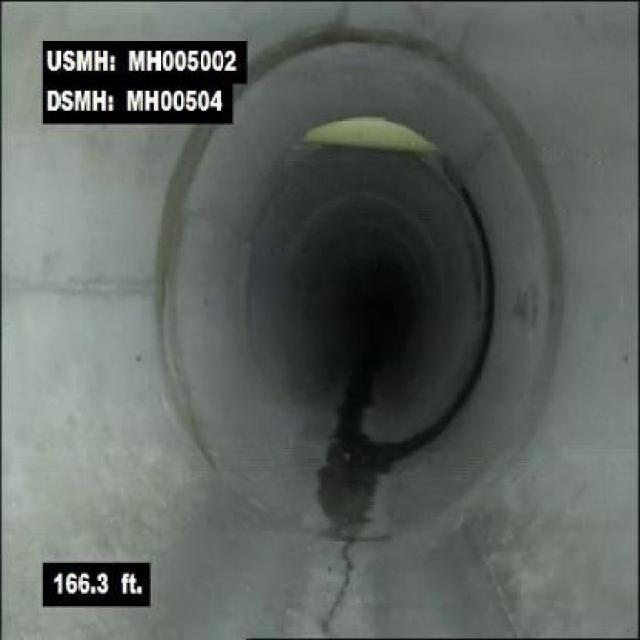Crack: (315, 540, 360, 637)
Utility intrusion: (294, 112, 444, 157)
